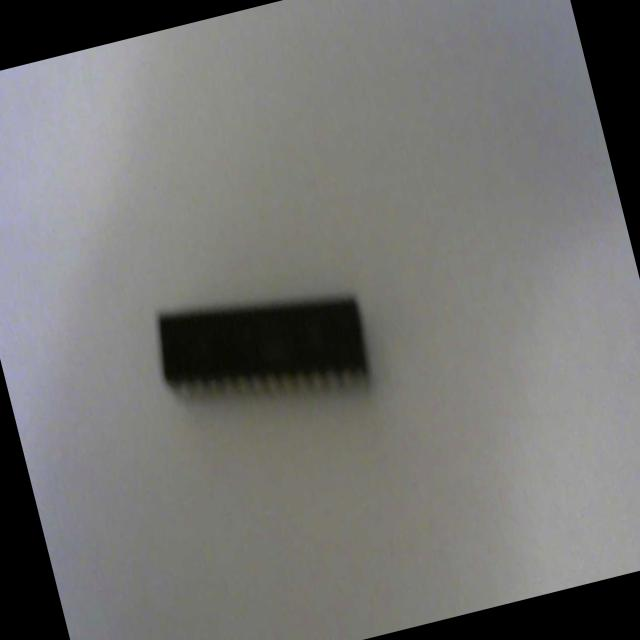atmega: (144, 259, 381, 439)
